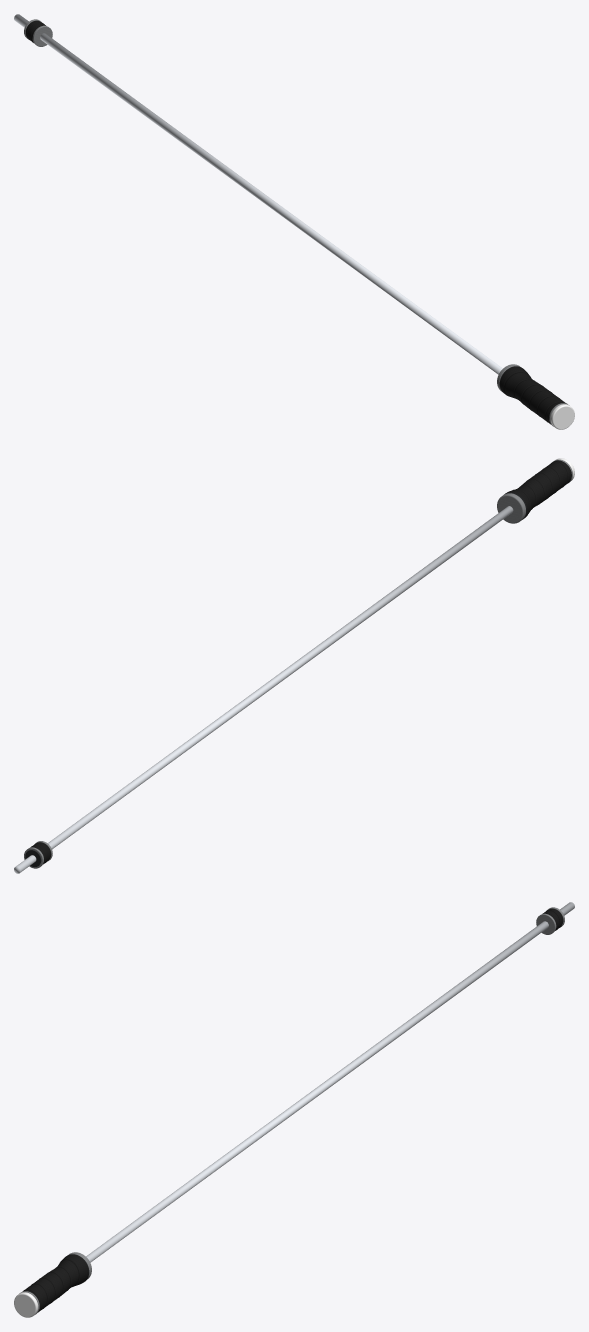
Rendered from fuzeball_rod_5man.glb.
3 views of the same model, one above another, from view 1: azimuth 30°, elevation 25°; view 2: azimuth 150°, elevation 25°; view 3: azimuth 330°, elevation 25° (orthographic).
Visible parts, largest first — view 1: rod5_bar.002, rod5_handle_wrapped_grip; view 2: rod5_bar.002, rod5_handle_wrapped_grip, rod5_handle_neck; view 3: rod5_bar.002, rod5_handle_wrapped_grip.
Part boxes in pixels (x1=…): rod5_bar.002: x1=14, y1=14, x2=502, y2=374; rod5_handle_wrapped_grip: x1=499, y1=366, x2=566, y2=424; rod5_bar.002: x1=14, y1=506, x2=513, y2=873; rod5_handle_wrapped_grip: x1=504, y1=460, x2=571, y2=519; rod5_handle_neck: x1=497, y1=493, x2=525, y2=523; rod5_bar.002: x1=86, y1=902, x2=574, y2=1262; rod5_handle_wrapped_grip: x1=22, y1=1254, x2=88, y2=1312.
Size of the model in its own units: 3.12 by 3.14 by 109.
Materials: 5 (2 with a texture image).
